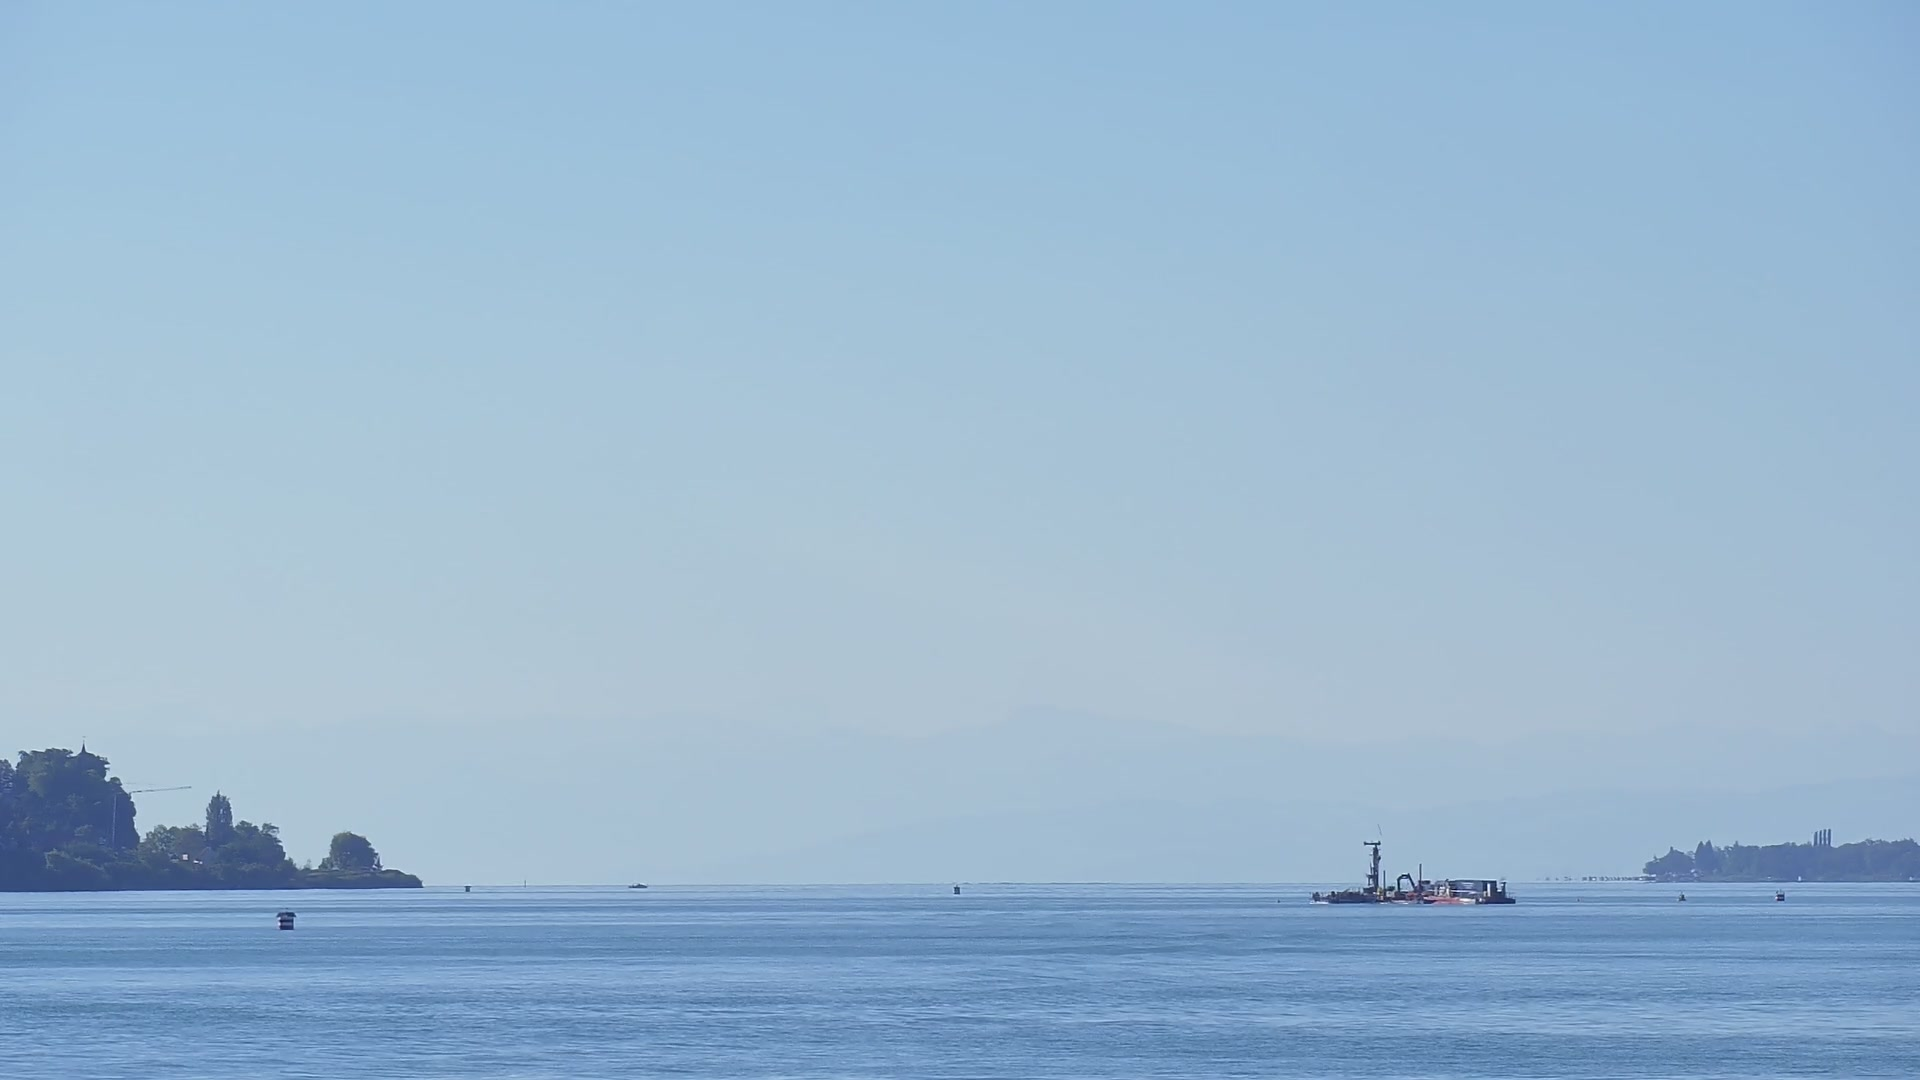sea: (626, 878, 647, 887)
